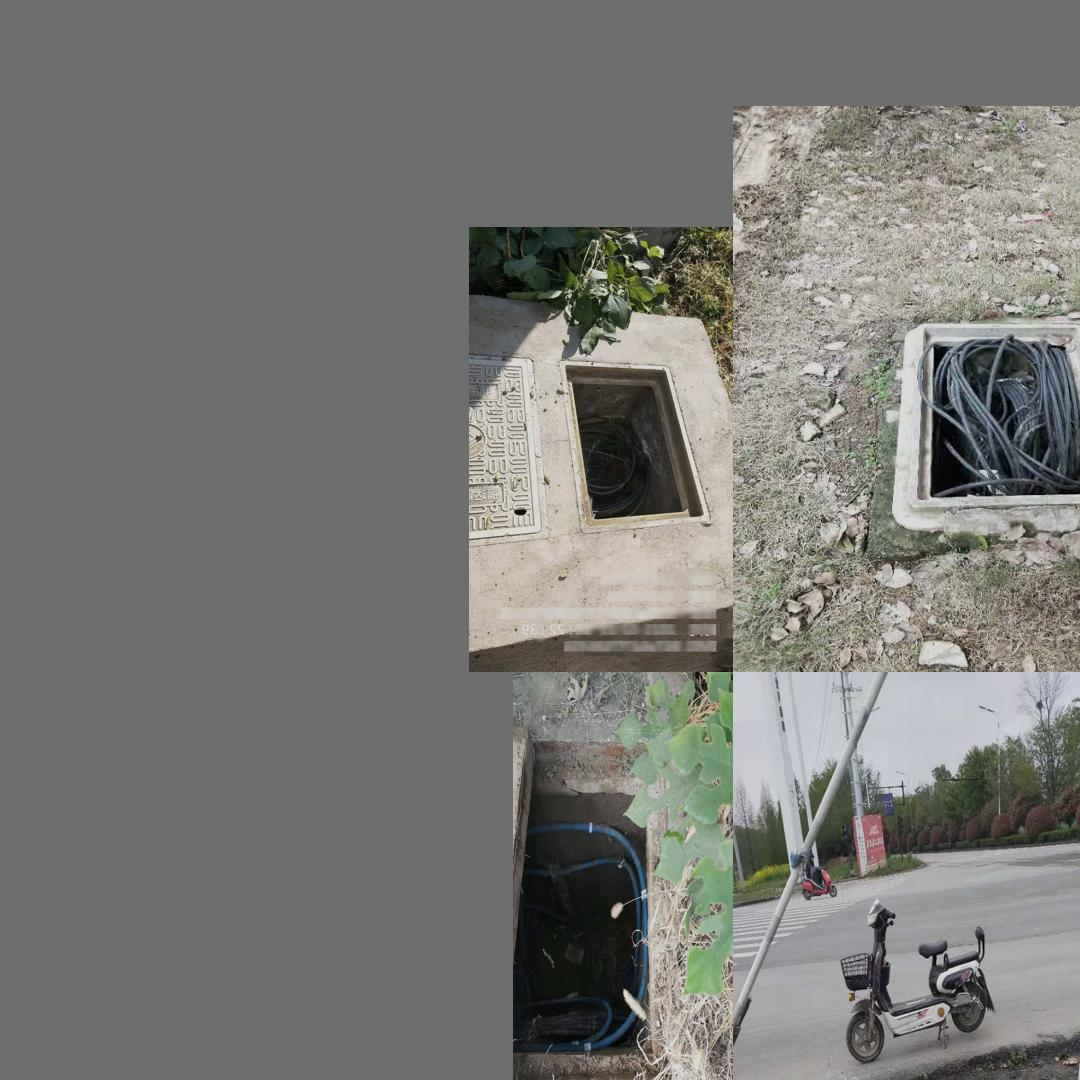lose: (513, 732, 665, 1080), (905, 314, 1080, 517), (559, 358, 710, 534)
